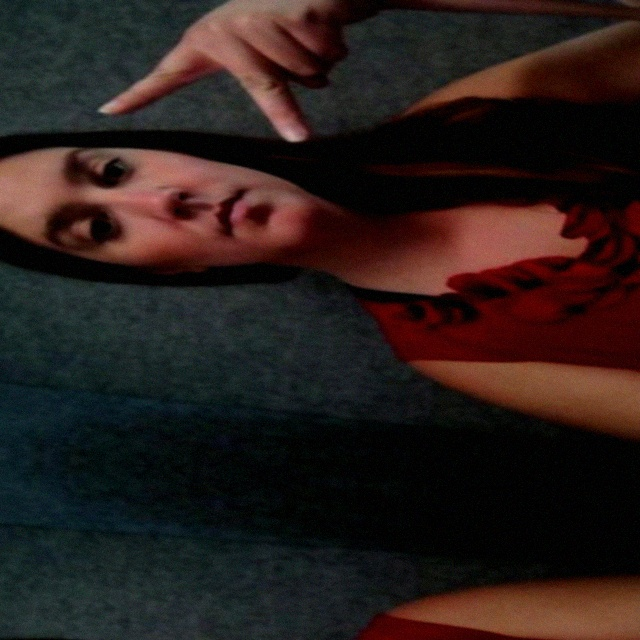Scissors: (97, 0, 423, 169)
